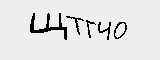Г: (83, 18, 98, 40)
О: (112, 19, 129, 41)
Т: (65, 12, 85, 36)
Ч: (95, 18, 112, 44)
Щ: (27, 12, 68, 40)
